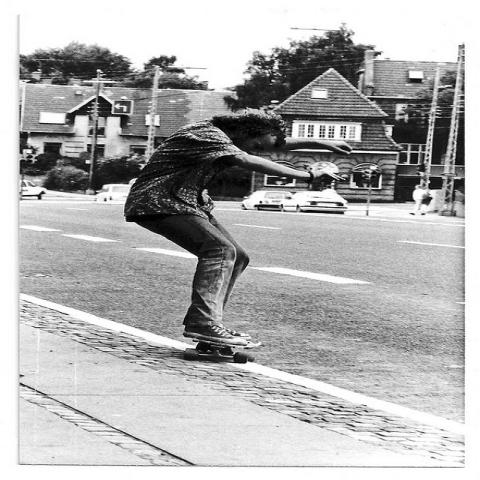car: (279, 190, 349, 213), (240, 191, 293, 210), (94, 184, 130, 204), (21, 180, 50, 200)
